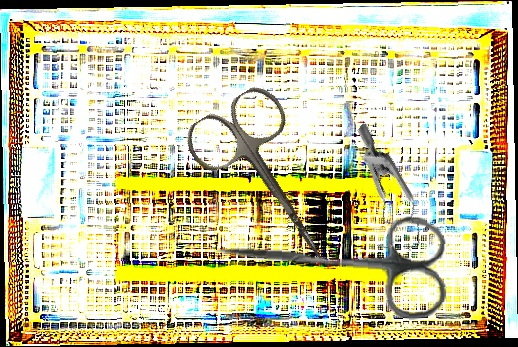Iris Scissors: (178, 78, 365, 292), (212, 202, 452, 322)
Speculum: (308, 122, 458, 266)
